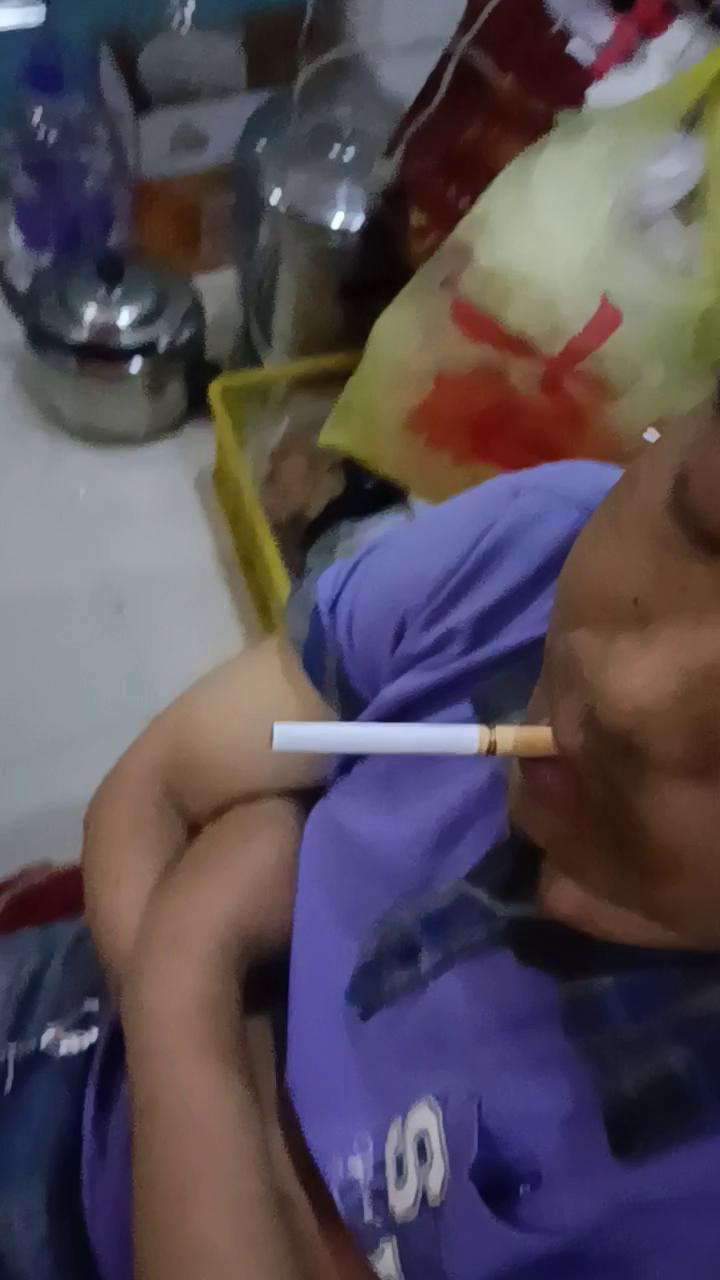smoke: (275, 722, 562, 760)
